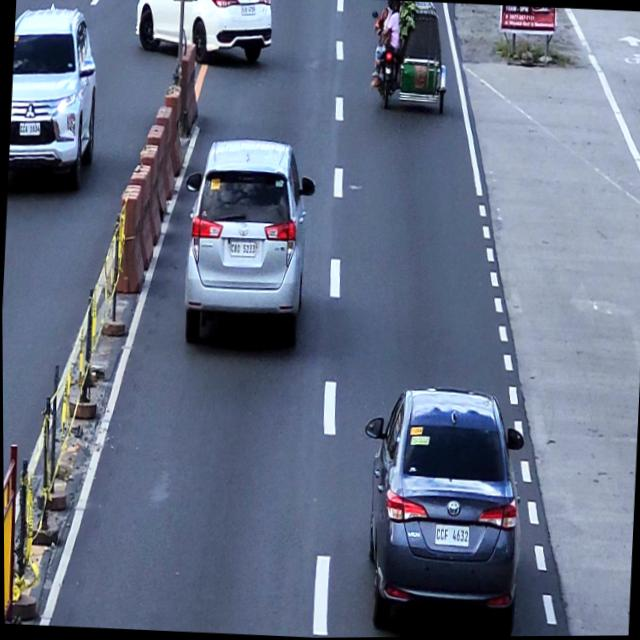Car: (353, 383, 528, 638), (177, 135, 319, 349), (7, 0, 102, 189), (133, 0, 273, 67)
License-Plate: (433, 522, 471, 549), (229, 240, 256, 259), (18, 121, 41, 137), (239, 5, 256, 16)
Tricycle: (366, 0, 452, 113)
